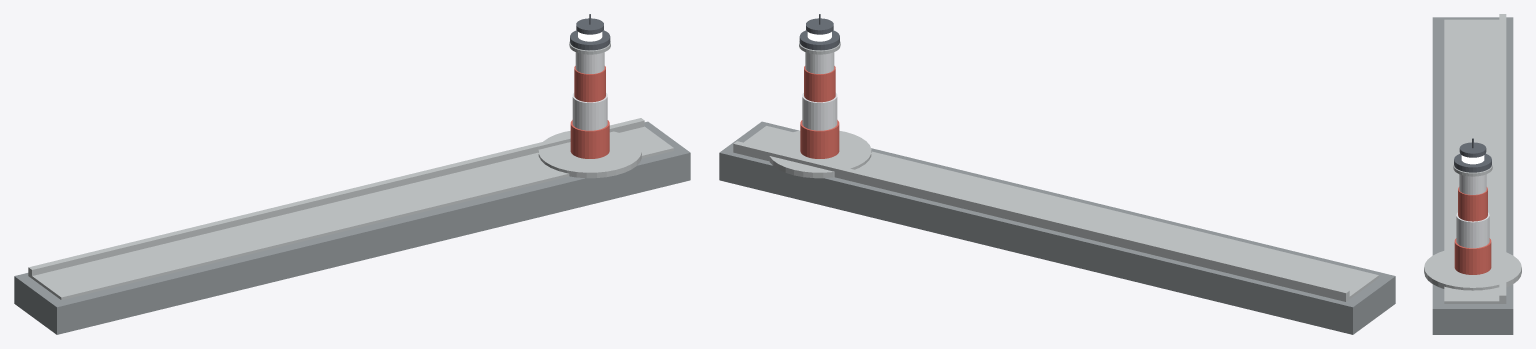
Rendered from harbor_breakwater_lighthouse.glb.
3 renders of one model, left to right at view 1: azimuth 30°, elevation 25°; view 2: azimuth 150°, elevation 25°; view 3: azimuth 270°, elevation 25°, orthographic. The views are drawn at different scales.
Parts seen in each view (by area): view 1: Breakwater_Base, Breakwater_Walkway, Wave_Deflector, Lighthouse_Plaza, LH_Base_Red, LH_Mid_White, LH_High_Red, LH_Top_White, LH_Gallery_Rail; view 2: Breakwater_Base, Breakwater_Walkway, Wave_Deflector, Lighthouse_Plaza, LH_Base_Red, LH_Mid_White, LH_High_Red, LH_Top_White, LH_Gallery_Rail; view 3: Breakwater_Walkway, Breakwater_Base, Lighthouse_Plaza, Wave_Deflector, LH_Base_Red, LH_Mid_White, LH_High_Red, LH_Top_White, LH_Gallery_Rail, LH_Lantern_Roof, LH_Gallery_Deck, LH_Lantern_Glass.
Boxes of the visible parts, box(x1,y1,x2,y2) form: Breakwater_Base: box(14, 121, 690, 334); Breakwater_Walkway: box(31, 126, 673, 300); Wave_Deflector: box(28, 118, 644, 278); Lighthouse_Plaza: box(538, 130, 641, 178); LH_Base_Red: box(570, 120, 609, 158); LH_Mid_White: box(572, 92, 607, 130); LH_High_Red: box(574, 66, 605, 102); LH_Top_White: box(575, 52, 604, 73); LH_Gallery_Rail: box(570, 30, 610, 50); Breakwater_Base: box(719, 121, 1395, 334); Breakwater_Walkway: box(744, 126, 1378, 299); Wave_Deflector: box(733, 141, 1349, 301); Lighthouse_Plaza: box(768, 130, 871, 178); LH_Base_Red: box(800, 120, 839, 158); LH_Mid_White: box(802, 92, 837, 130); LH_High_Red: box(804, 66, 835, 102); LH_Top_White: box(805, 52, 834, 73); LH_Gallery_Rail: box(799, 30, 839, 50); Breakwater_Walkway: box(1444, 19, 1501, 303); Breakwater_Base: box(1432, 17, 1513, 334); Lighthouse_Plaza: box(1424, 248, 1521, 290); Wave_Deflector: box(1499, 14, 1506, 303); LH_Base_Red: box(1454, 238, 1491, 274); LH_Mid_White: box(1456, 212, 1489, 248); LH_High_Red: box(1458, 187, 1487, 221); LH_Top_White: box(1459, 174, 1486, 194); LH_Gallery_Rail: box(1454, 154, 1491, 172); LH_Lantern_Roof: box(1459, 142, 1486, 157); LH_Gallery_Deck: box(1453, 164, 1492, 176); LH_Lantern_Glass: box(1461, 155, 1484, 164).
Size of the model in its own units: 120 by 30.7 by 17.
